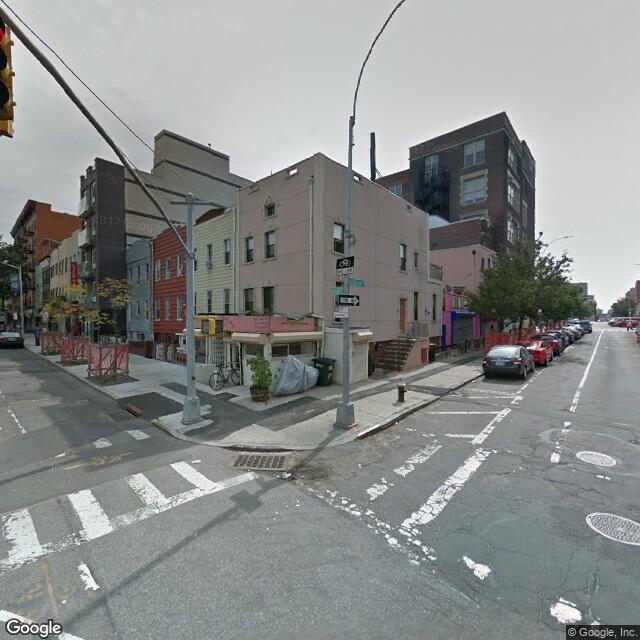litter: (281, 472, 294, 480), (190, 459, 204, 463), (471, 379, 480, 385), (395, 420, 403, 426)
